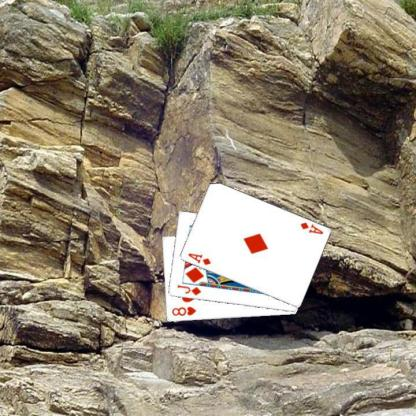8H: (169, 304, 197, 317)
AD: (298, 219, 324, 236), (186, 251, 212, 266)
JD: (175, 282, 202, 297)
